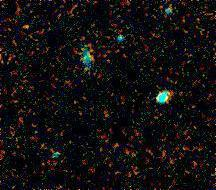star: (9, 8, 39, 38)
